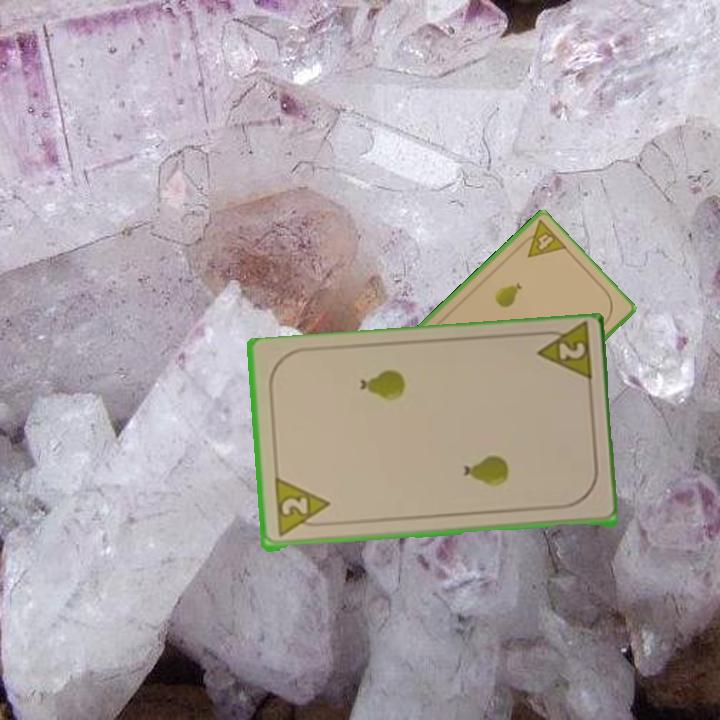2p: (530, 322, 595, 387), (270, 477, 333, 540)
4p: (513, 216, 569, 260)
